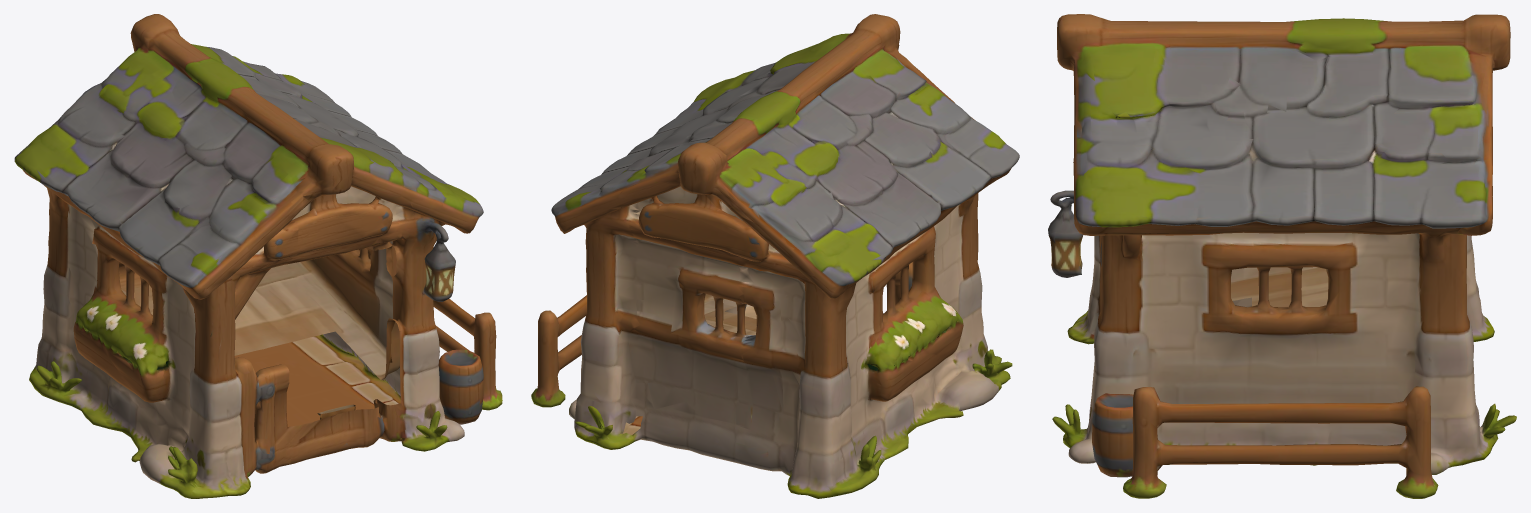
3 renders of one model, left to right at view 1: azimuth 30°, elevation 25°; view 2: azimuth 150°, elevation 25°; view 3: azimuth 270°, elevation 25°, orthographic. The views are drawn at different scales.
Visible parts, largest first — view 1: tripo_node_53b79d4a-67bd-43c6-ab93-d5aec6058f08; view 2: tripo_node_53b79d4a-67bd-43c6-ab93-d5aec6058f08; view 3: tripo_node_53b79d4a-67bd-43c6-ab93-d5aec6058f08.
Boxes of the visible parts, <box> form: tripo_node_53b79d4a-67bd-43c6-ab93-d5aec6058f08: <box>14,14,502,498</box>; tripo_node_53b79d4a-67bd-43c6-ab93-d5aec6058f08: <box>531,14,1019,498</box>; tripo_node_53b79d4a-67bd-43c6-ab93-d5aec6058f08: <box>1048,14,1516,498</box>.
Size of the model in its own units: 3.37 by 3 by 3.4.
Materials: 1 (1 with a texture image).
